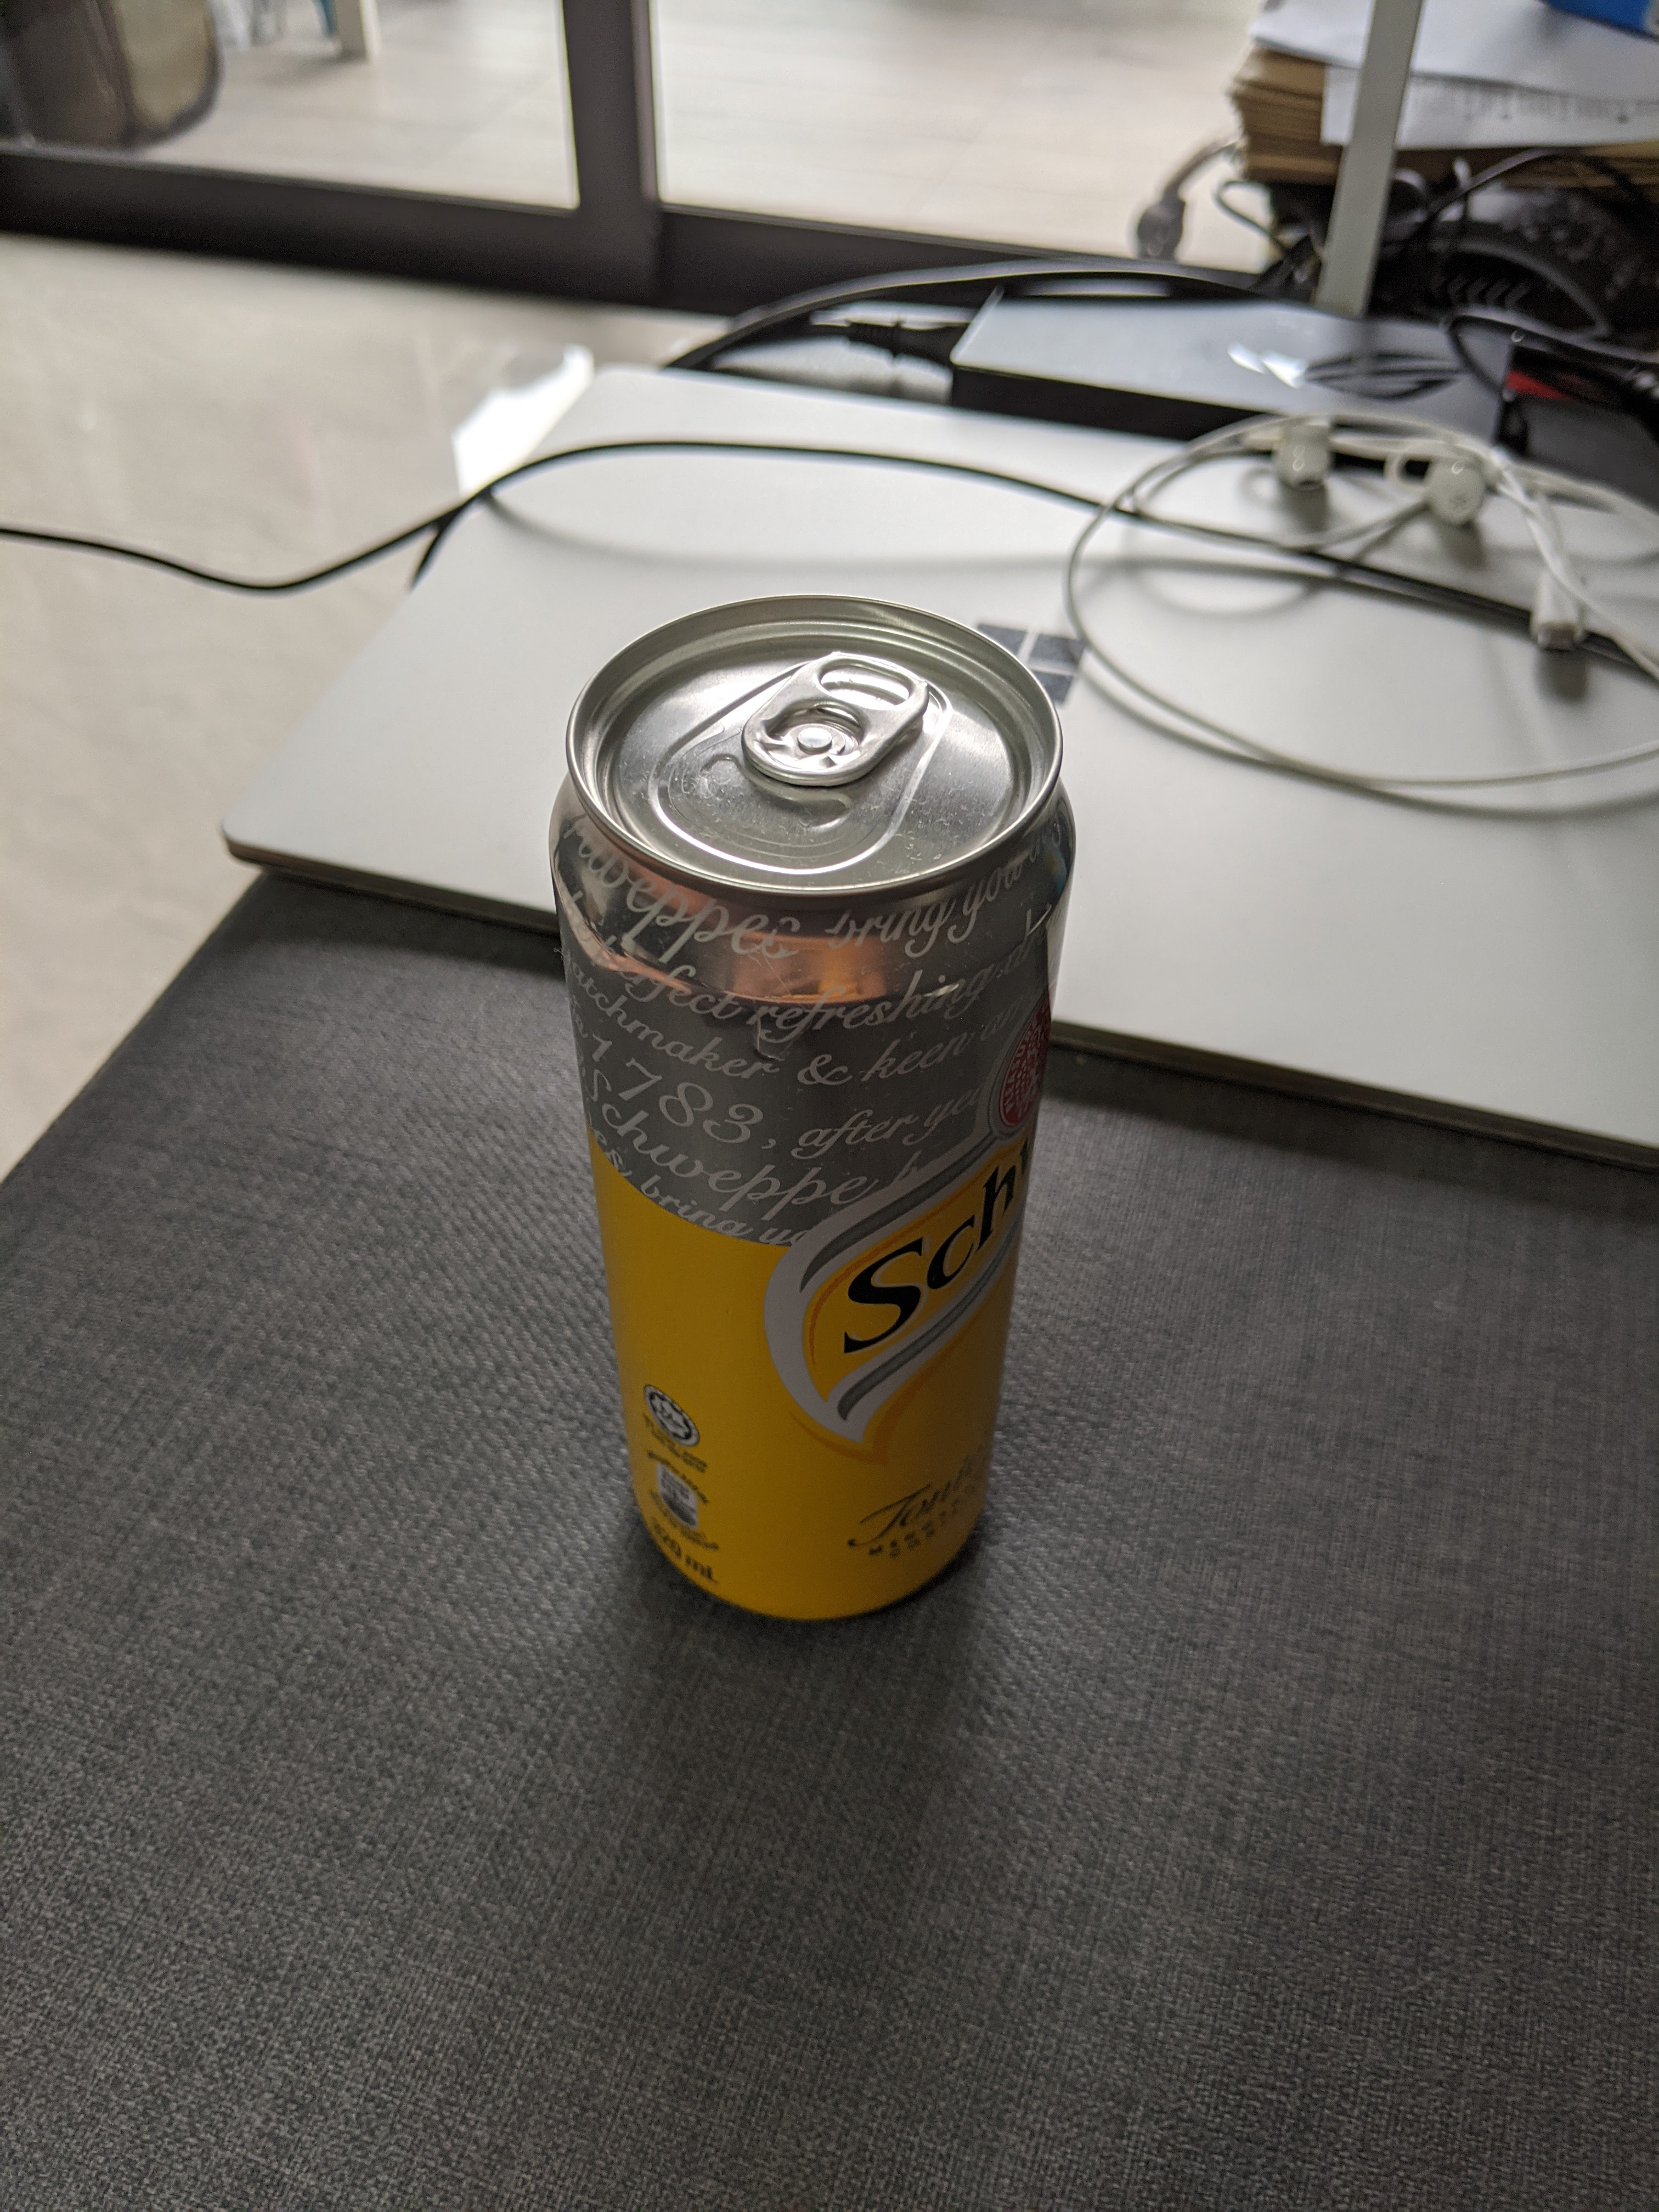schweppes drink can tonic water: (521, 571, 1098, 1648)
